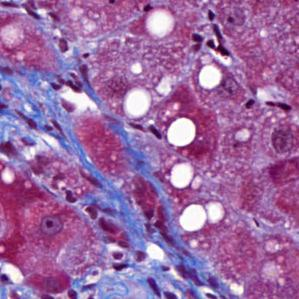inflammation: (185, 21, 233, 62), (41, 65, 95, 94), (102, 245, 150, 274), (170, 262, 205, 290)
